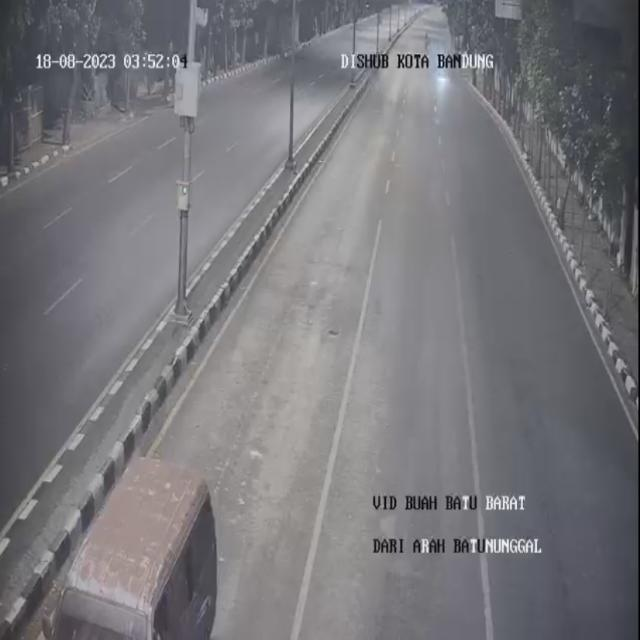cars: (45, 458, 217, 640)
